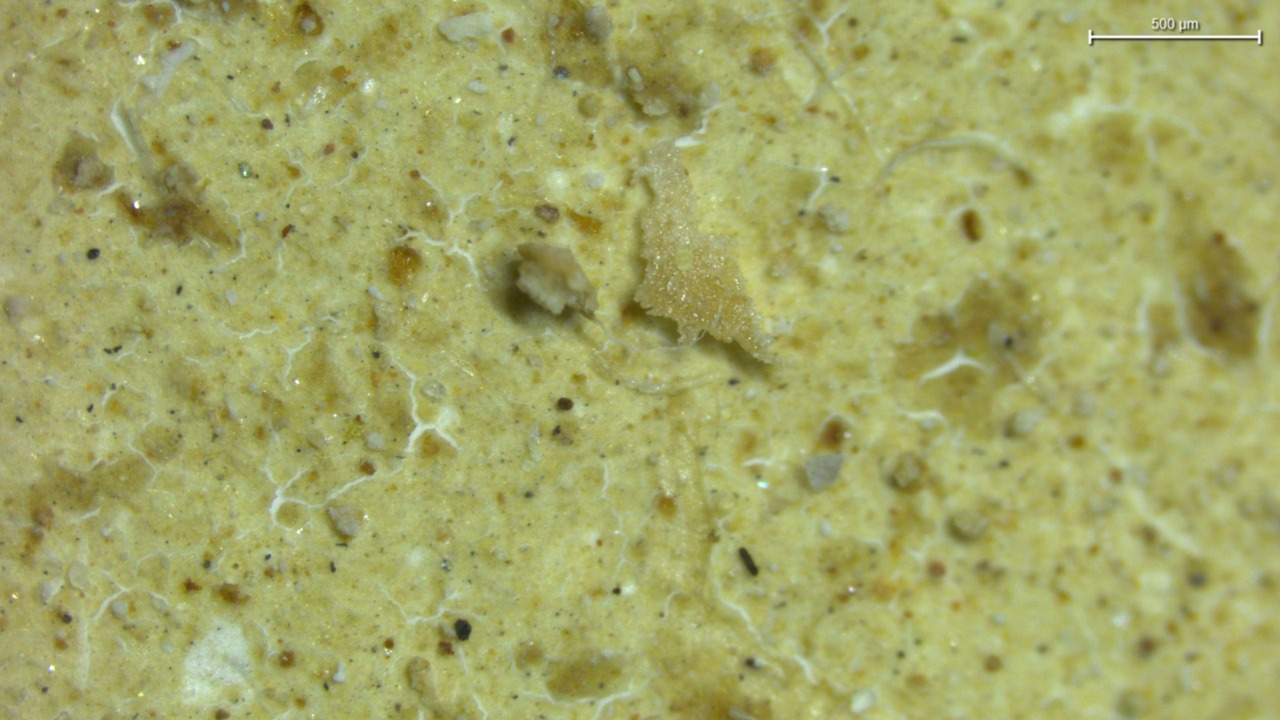microplastic_fragment: (516, 242, 597, 315)
